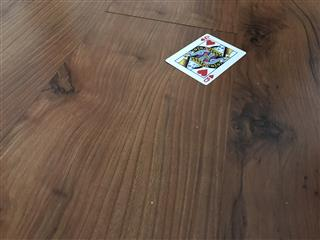QueenOfHearts: (164, 33, 246, 84)
